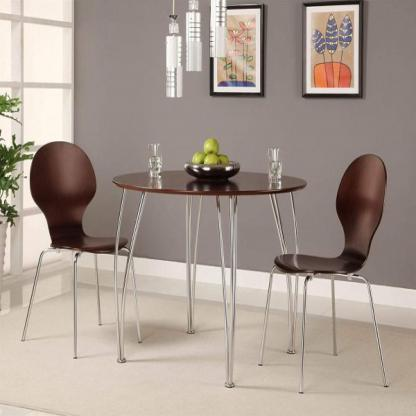chair: (252, 149, 402, 396), (22, 138, 144, 364)
